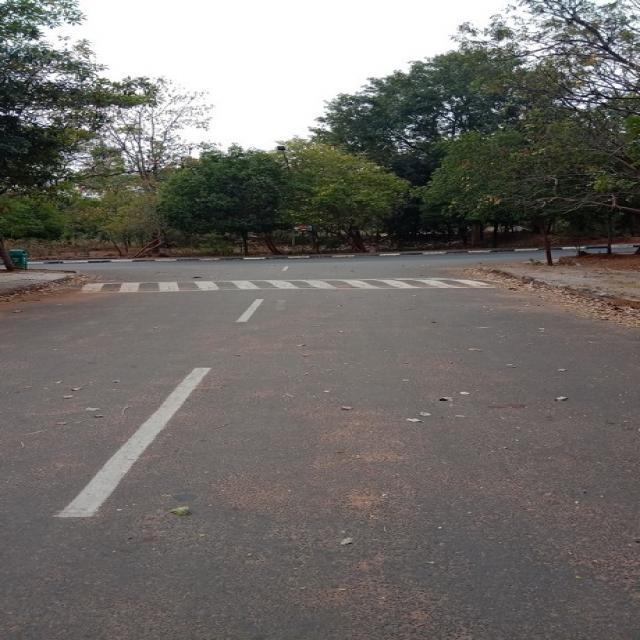crosswalk: (77, 275, 497, 290)
